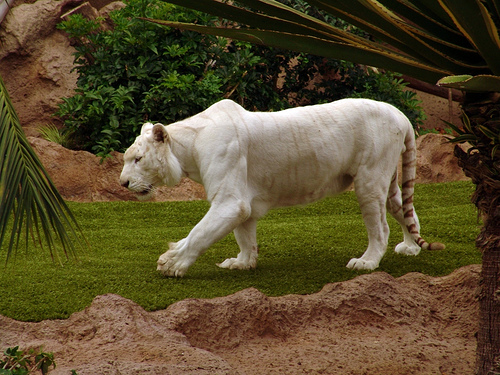Tigre: (123, 110, 453, 280)
